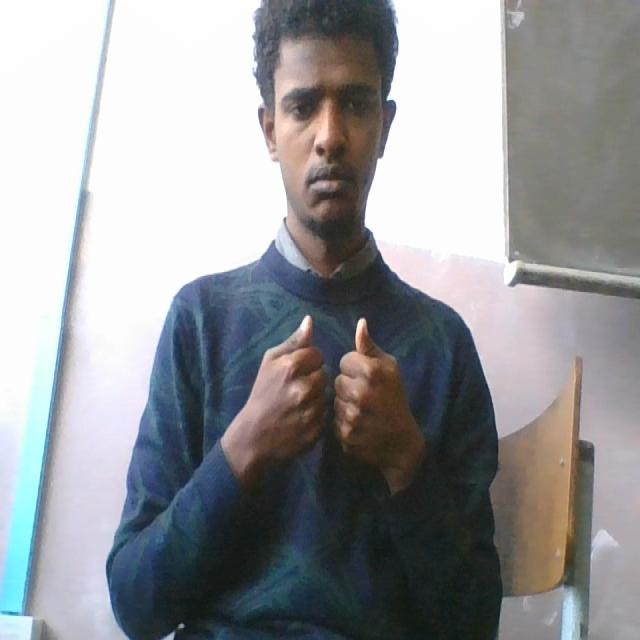dabo: (245, 312, 414, 484)
